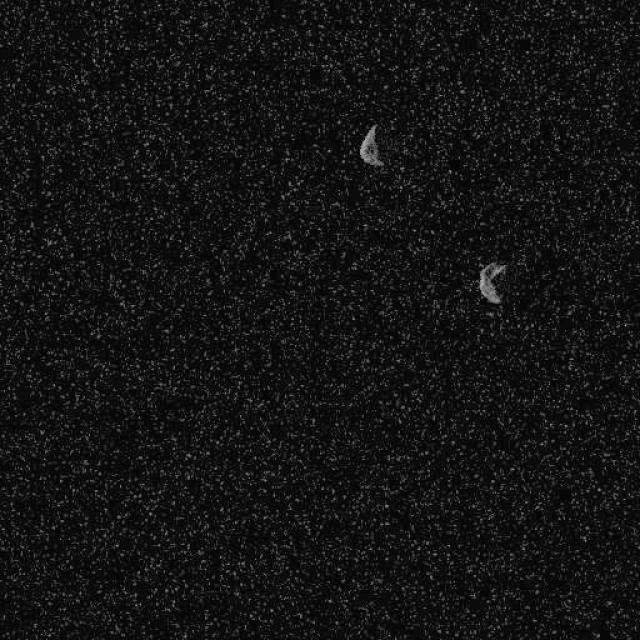D2: (478, 260, 508, 305), (358, 122, 383, 168)
